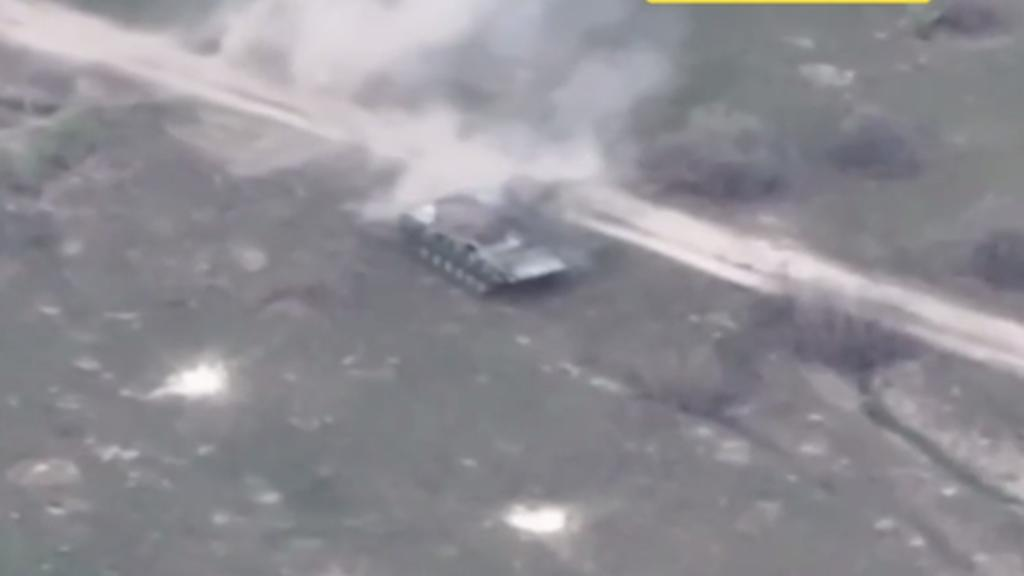APC-IFV: (388, 192, 574, 298)
